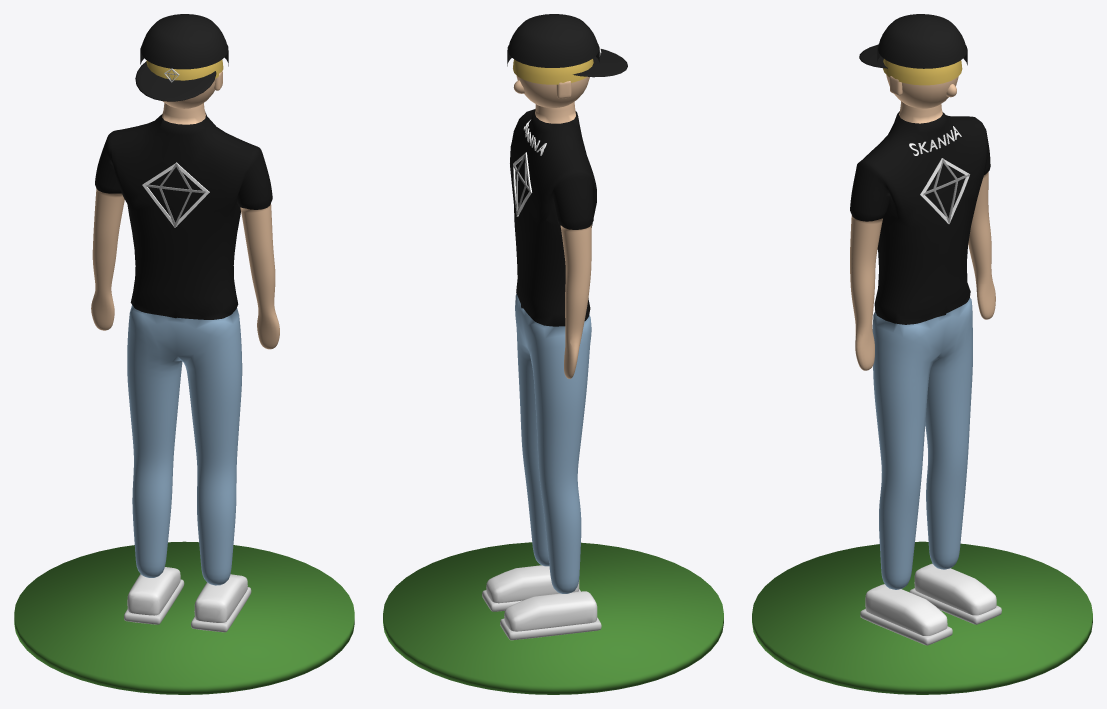
Rendered from scale-figure.glb.
The picture shows the model from 3 angles, left to right: view 1: azimuth 30°, elevation 25°; view 2: azimuth 150°, elevation 25°; view 3: azimuth 270°, elevation 25°; orthographic projection.
Visible parts, largest first — view 1: Body, Grass, Cap, ShoeL, ShoeR, CapBill, Hair, SoleR, SoleL; view 2: Grass, Body, Cap, ShoeR, ShoeL, Hair, Head, SoleR, CapBill; view 3: Body, Grass, Cap, ShoeL, ShoeR, Hair, Head, SoleL, SoleR.
Boxes of the visible parts, <box> form: Body: <box>91,103,279,585</box>; Grass: <box>14,541,354,694</box>; Cap: <box>141,14,227,69</box>; ShoeL: <box>194,574,247,622</box>; ShoeR: <box>127,567,180,615</box>; CapBill: <box>135,61,216,101</box>; Hair: <box>146,59,223,80</box>; SoleR: <box>124,579,184,624</box>; SoleL: <box>191,587,251,632</box>; Grass: <box>383,542,723,694</box>; Body: <box>510,101,596,593</box>; Cap: <box>508,14,598,67</box>; ShoeR: <box>504,591,597,631</box>; ShoeL: <box>486,565,579,603</box>; Hair: <box>513,59,593,84</box>; Head: <box>516,76,589,107</box>; SoleR: <box>500,617,601,640</box>; CapBill: <box>573,49,627,77</box>; Body: <box>850,101,995,589</box>; Grass: <box>752,541,1092,694</box>; Cap: <box>878,14,966,68</box>; ShoeL: <box>865,584,947,635</box>; ShoeR: <box>914,563,996,615</box>; Hair: <box>883,59,962,85</box>; Head: <box>886,75,958,108</box>; SoleL: <box>860,609,952,645</box>; SoleR: <box>909,588,1001,624</box>.
Bounding box in the file's own units: 1 × 1.95 × 1.
